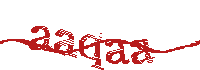a: (131, 36, 154, 65), (55, 27, 74, 59), (30, 24, 52, 51), (106, 38, 128, 65)
q: (79, 32, 105, 70)
